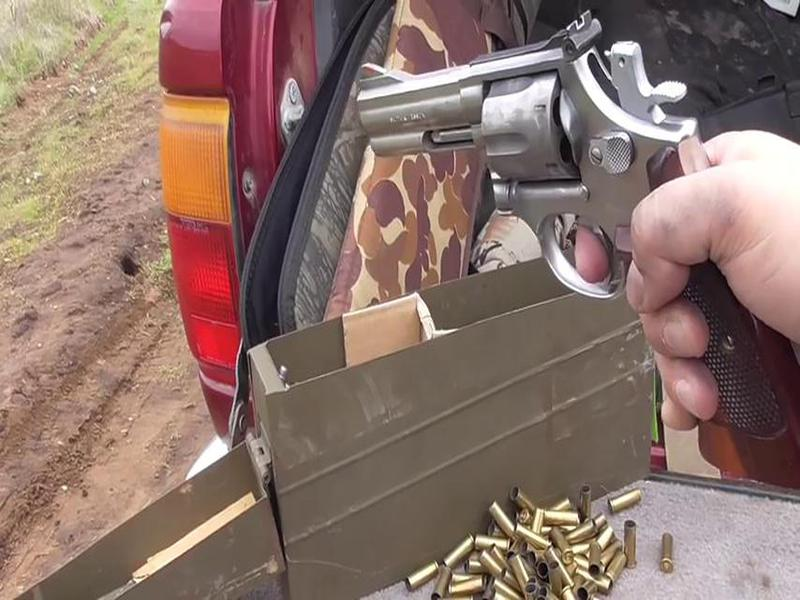Revolver: (360, 17, 752, 421)
